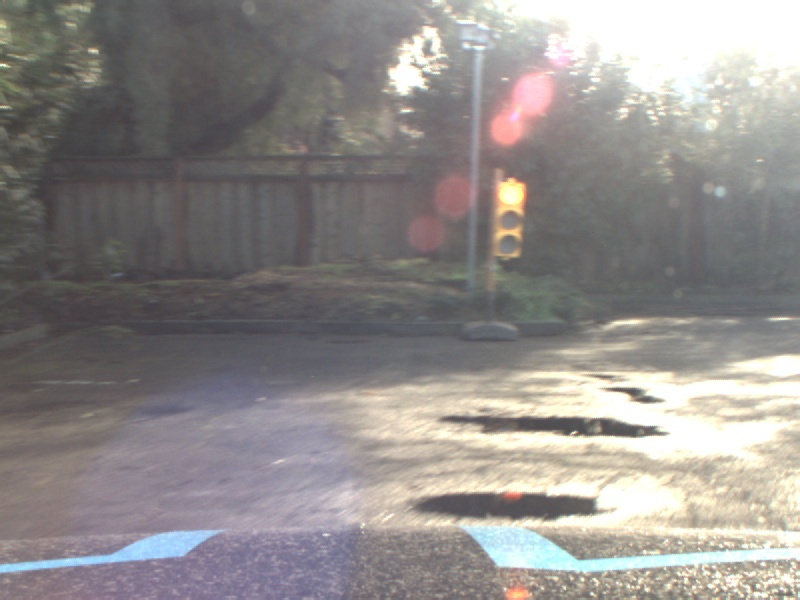Red: (492, 180, 523, 257)
